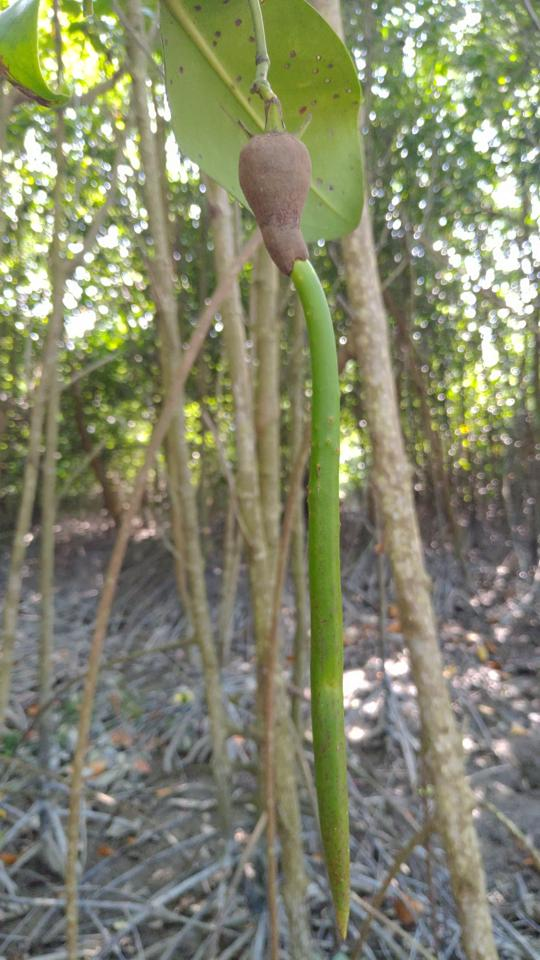mentah: (219, 107, 376, 944)
